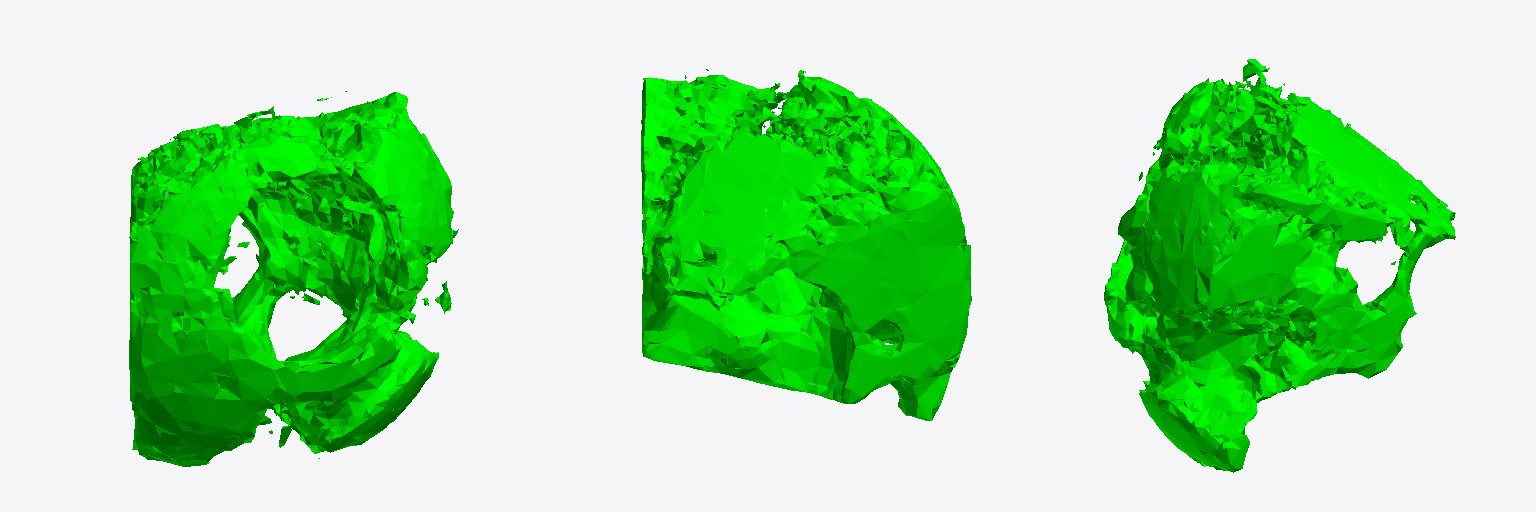
The model's file is B939XXXX-1_base_34.obj.
The picture shows the model from 3 angles: view 1: azimuth 30°, elevation 25°; view 2: azimuth 150°, elevation 25°; view 3: azimuth 270°, elevation 25°; orthographic projection.
Parts seen in each view (by area): view 1: 34_base; view 2: 34_base; view 3: 34_base.
Boxes of the visible parts, box(x1,y1,x2,y2) form: 34_base: box(129, 91, 458, 466); 34_base: box(641, 69, 971, 420); 34_base: box(1104, 59, 1455, 472).
Bounding box in the file's own units: 218 × 216 × 203.